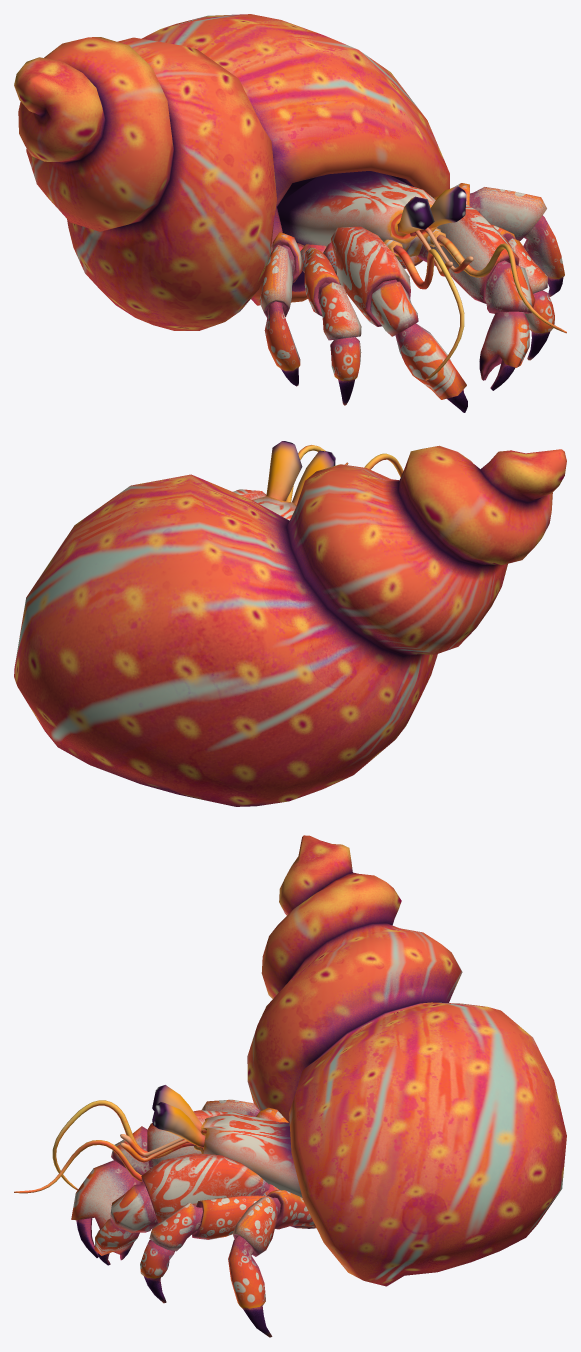
The model's file is hermitcrabnoam.glb.
3 renders of one model, top to bottom at view 1: azimuth 30°, elevation 25°; view 2: azimuth 150°, elevation 25°; view 3: azimuth 270°, elevation 25°, orthographic. The views are drawn at different scales.
Parts seen in each view (by area): view 1: Shell_LP, Claw1L_LP, Claw1R_LP, Body_LP, Claw2L_LP, Claw3R_LP, Claw3L_LP, Claw2R_LP, Eyes_LP, AntennaL_LP, AntennaR_LP, Horns_LP; view 2: Shell_LP, Eyes_LP, Body_LP; view 3: Shell_LP, Claw1R_LP, Claw3R_LP, Body_LP, Claw1L_LP, Claw2R_LP, Eyes_LP, AntennaL_LP, Claw3L_LP, AntennaR_LP, Horns_LP.
Boxes of the visible parts, x1,y1,x2,y2 form: Shell_LP: (14, 14, 449, 330); Claw1L_LP: (323, 226, 467, 412); Claw1R_LP: (398, 204, 535, 390); Body_LP: (277, 171, 438, 259); Claw2L_LP: (300, 244, 361, 405); Claw3R_LP: (434, 183, 564, 296); Claw3L_LP: (259, 232, 304, 386); Claw2R_LP: (492, 225, 554, 360); Eyes_LP: (397, 186, 466, 234); AntennaL_LP: (383, 239, 464, 380); AntennaR_LP: (425, 228, 566, 333); Horns_LP: (410, 227, 473, 276); Shell_LP: (14, 445, 566, 806); Eyes_LP: (266, 441, 335, 504); Body_LP: (252, 496, 296, 520); Shell_LP: (247, 835, 566, 1286); Claw1R_LP: (94, 1153, 278, 1265); Claw3R_LP: (228, 1189, 316, 1337); Body_LP: (199, 1112, 302, 1197); Claw1L_LP: (71, 1110, 227, 1257); Claw2R_LP: (140, 1195, 316, 1303); Eyes_LP: (152, 1085, 205, 1147); AntennaL_LP: (52, 1100, 200, 1190); Claw3L_LP: (201, 1099, 288, 1122); AntennaR_LP: (14, 1140, 141, 1193); Horns_LP: (120, 1134, 202, 1162).
Bounding box in the file's own units: 2.99 × 1.83 × 3.19.
Materials: 1 (1 with a texture image).
